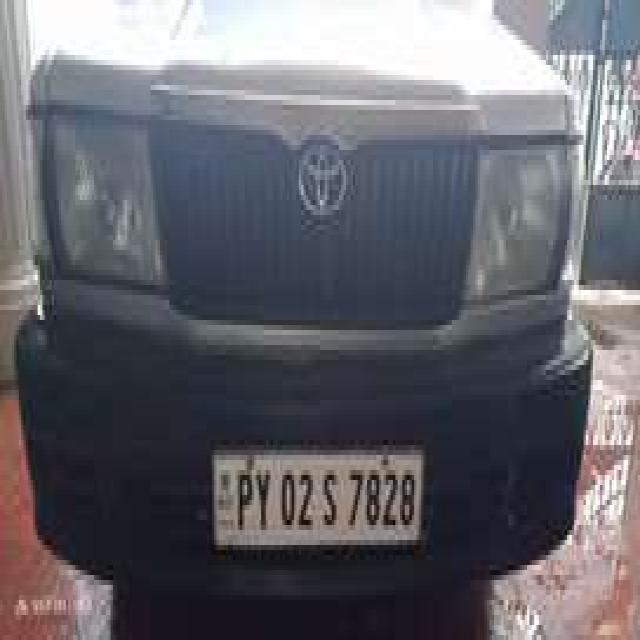licenseplate: (210, 448, 428, 550)
